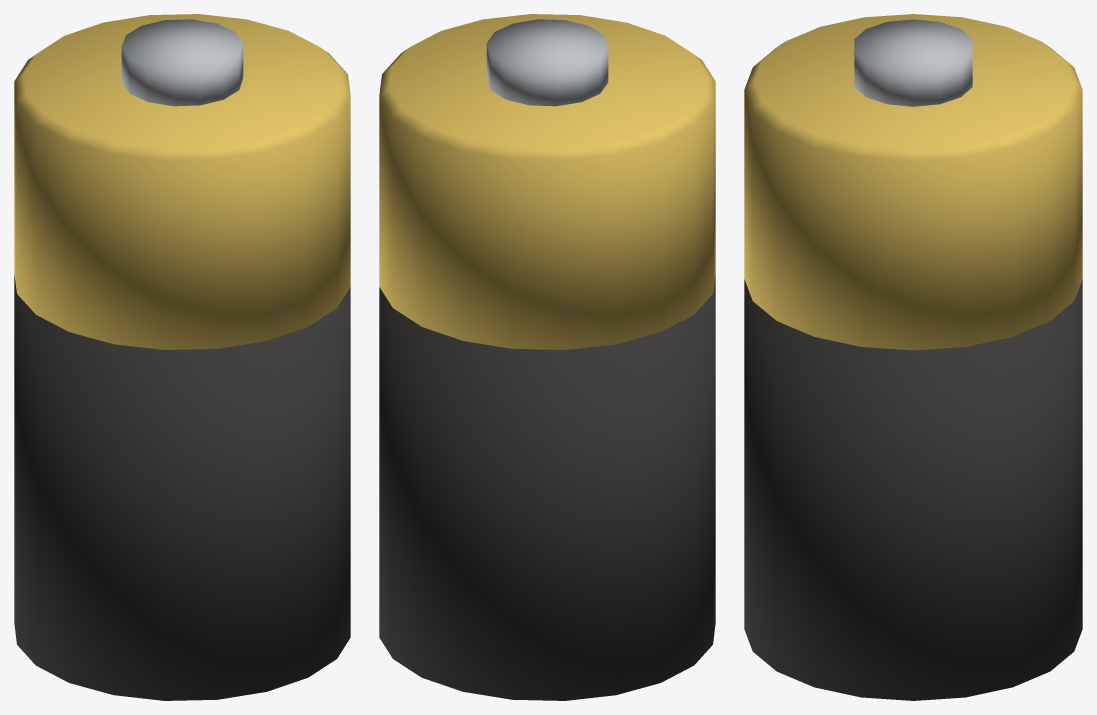
Rendered from battery.glb.
The picture shows the model from 3 angles, left to right: view 1: azimuth 30°, elevation 25°; view 2: azimuth 150°, elevation 25°; view 3: azimuth 270°, elevation 25°; orthographic projection.
Parts seen in each view (by area): view 1: cell, top, nub; view 2: cell, top, nub; view 3: cell, top, nub.
Boxes of the visible parts, x1=… form: cell: x1=14, y1=274, x2=350, y2=700; top: x1=14, y1=14, x2=350, y2=349; nub: x1=121, y1=19, x2=243, y2=106; cell: x1=379, y1=274, x2=715, y2=700; top: x1=379, y1=14, x2=715, y2=349; nub: x1=486, y1=19, x2=608, y2=106; cell: x1=744, y1=279, x2=1082, y2=700; top: x1=744, y1=14, x2=1082, y2=350; nub: x1=854, y1=19, x2=972, y2=106.
Bounding box in the file's own units: 0.476 × 0.917 × 0.476.
